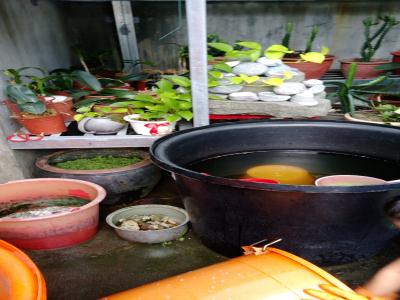bowl: (143, 115, 399, 266), (1, 176, 112, 253), (30, 149, 164, 196), (102, 201, 196, 246), (123, 113, 181, 137), (87, 116, 125, 135)
